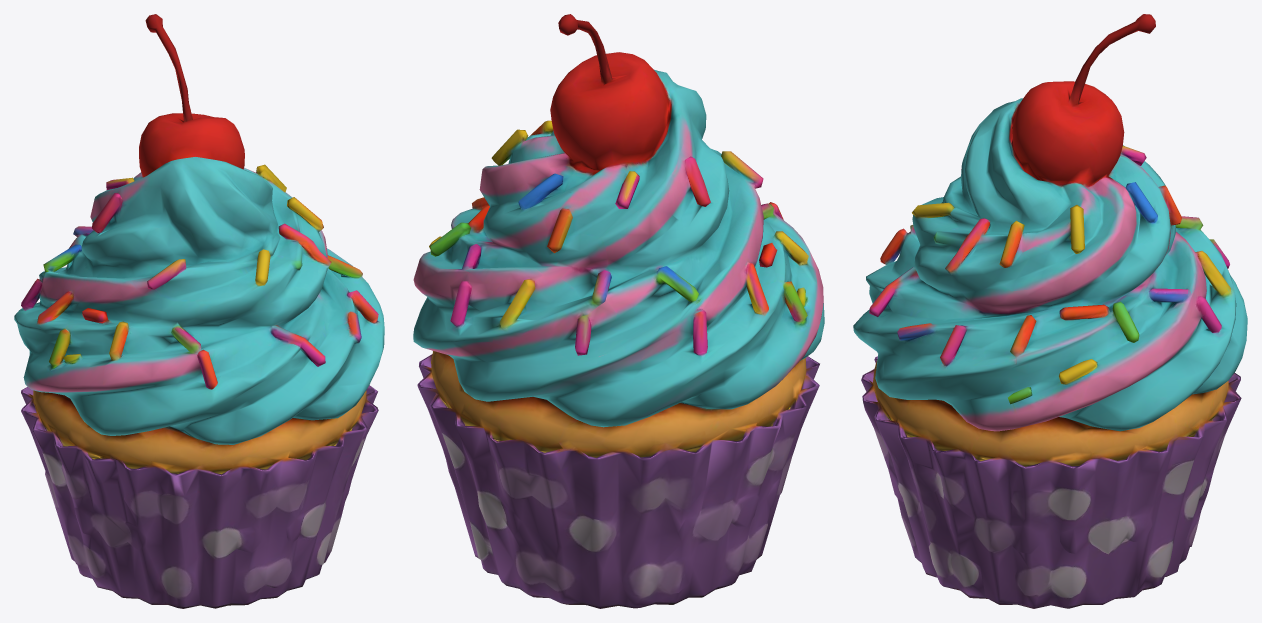
The model's file is deco_cupcake.glb.
The picture shows the model from 3 angles, left to right: view 1: azimuth 30°, elevation 25°; view 2: azimuth 150°, elevation 25°; view 3: azimuth 270°, elevation 25°; orthographic projection. The views are drawn at different scales.
Visible parts, largest first — view 1: tripo_node_7ea2d6a6-1758-43d4-be2e-276e53eb4bc4; view 2: tripo_node_7ea2d6a6-1758-43d4-be2e-276e53eb4bc4; view 3: tripo_node_7ea2d6a6-1758-43d4-be2e-276e53eb4bc4.
Part boxes in pixels (<box>): tripo_node_7ea2d6a6-1758-43d4-be2e-276e53eb4bc4: <box>14,14,384,608</box>; tripo_node_7ea2d6a6-1758-43d4-be2e-276e53eb4bc4: <box>413,14,824,608</box>; tripo_node_7ea2d6a6-1758-43d4-be2e-276e53eb4bc4: <box>853,14,1247,608</box>.
Size of the model in its own units: 0.663 by 1 by 0.6579.
1 material, 1 textured.
